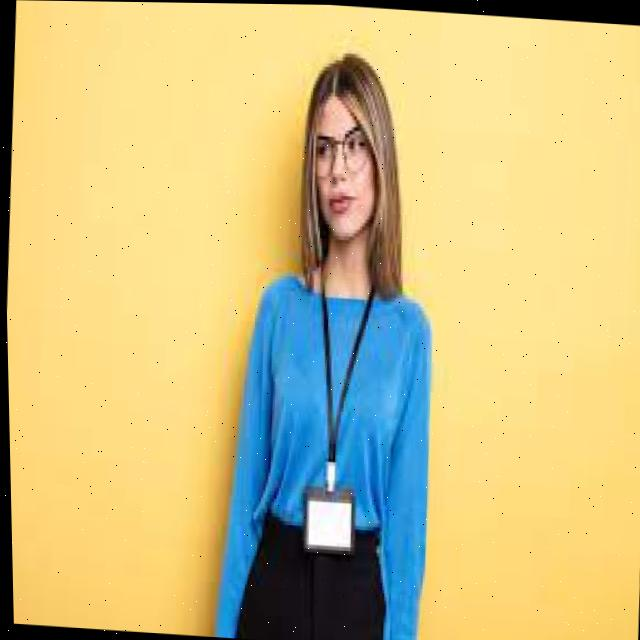id_card: (298, 261, 374, 558)
